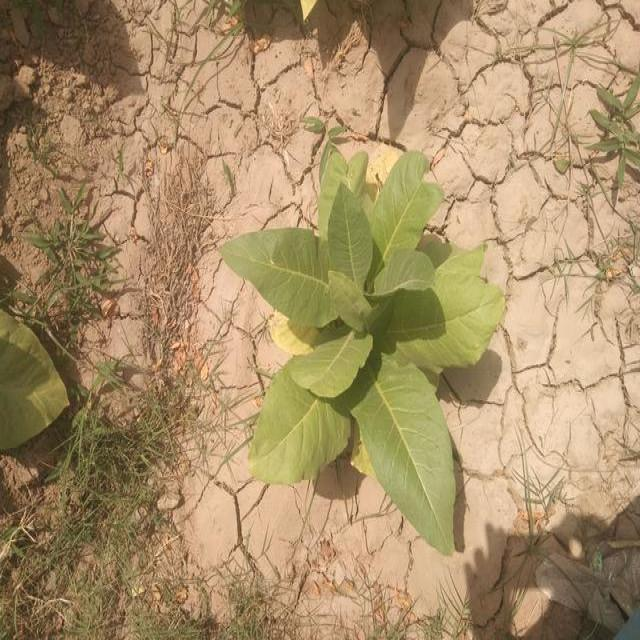crop: (218, 131, 502, 549)
